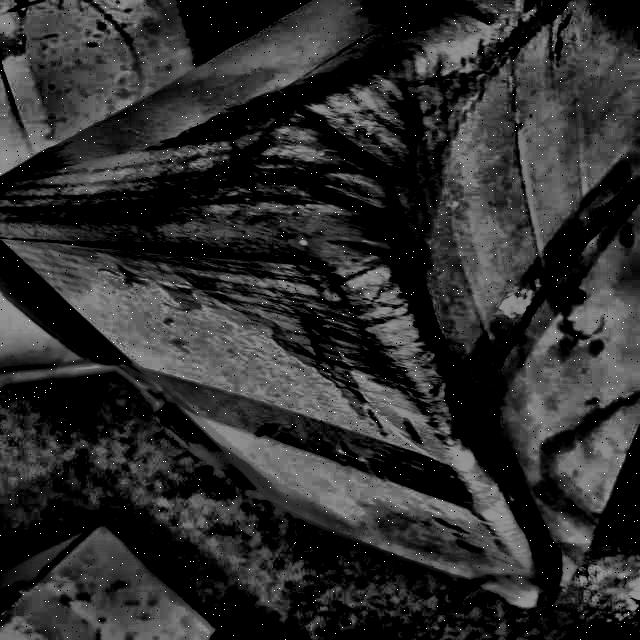box: (1, 1, 640, 614)
wet: (1, 104, 442, 412)
